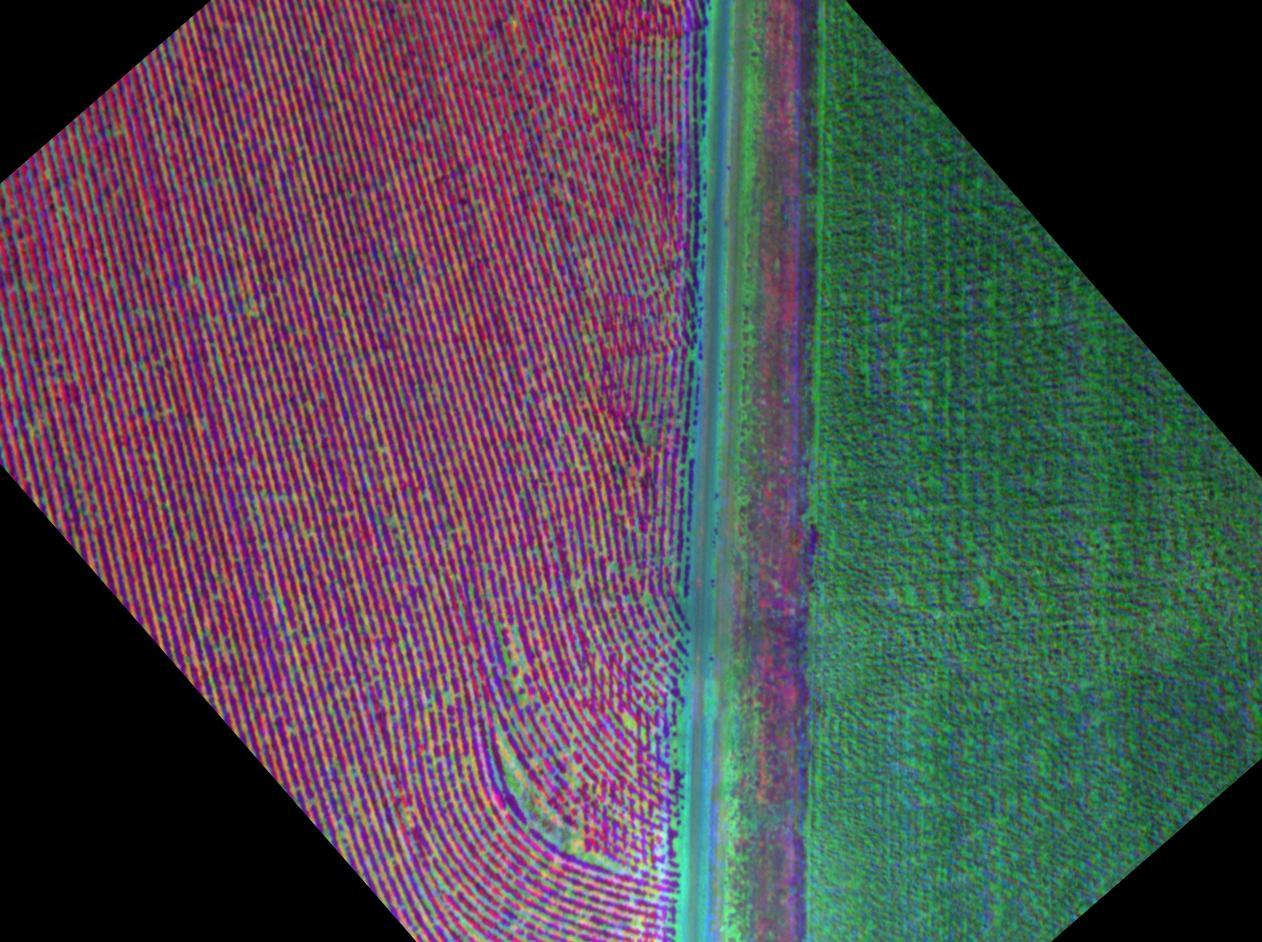dc: (478, 703, 634, 877), (581, 548, 675, 644), (326, 738, 411, 843), (396, 613, 471, 727), (486, 610, 540, 695)
